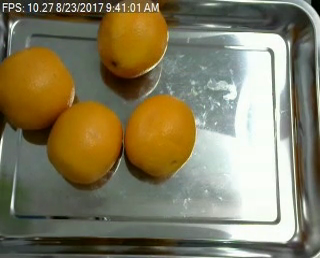Orange: (48, 98, 123, 185), (1, 44, 76, 127), (125, 95, 196, 179), (97, 2, 168, 78)
